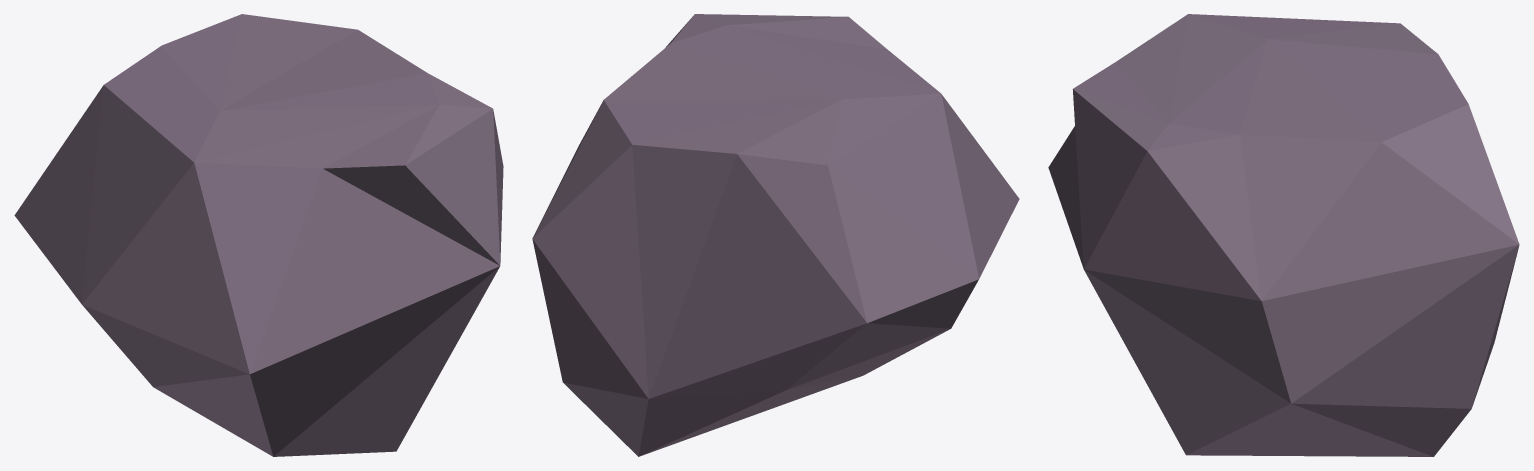
Rendered from rock3.glb.
The picture shows the model from 3 angles, left to right: view 1: azimuth 30°, elevation 25°; view 2: azimuth 150°, elevation 25°; view 3: azimuth 270°, elevation 25°; orthographic projection. The views are drawn at different scales.
Visible parts, largest first — view 1: rock3-col; view 2: rock3-col; view 3: rock3-col.
Part boxes in pixels (x1,y1,x2,y2): rock3-col: [14, 14, 503, 456]; rock3-col: [532, 14, 1019, 456]; rock3-col: [1048, 14, 1519, 456].
Bounding box in the file's own units: 2.97 × 2.35 × 2.84.
1 material, 1 textured.
